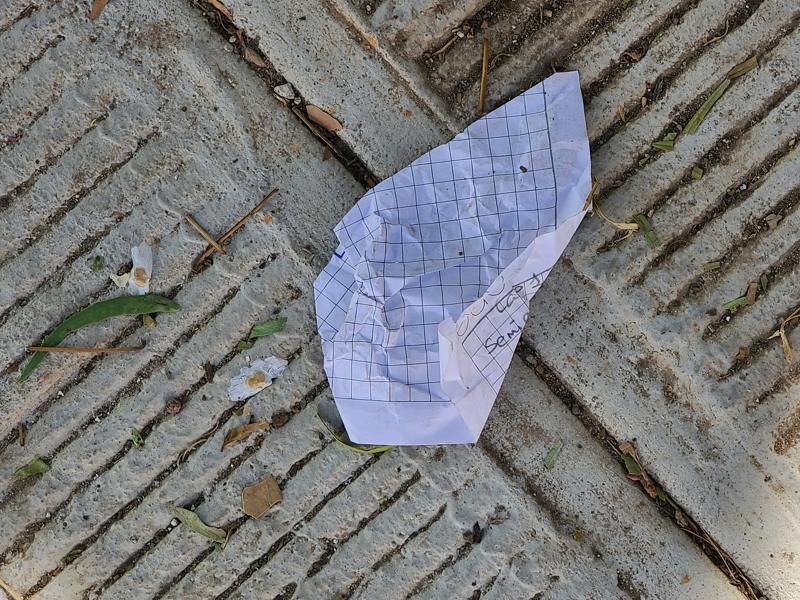papel: (312, 71, 593, 448)
